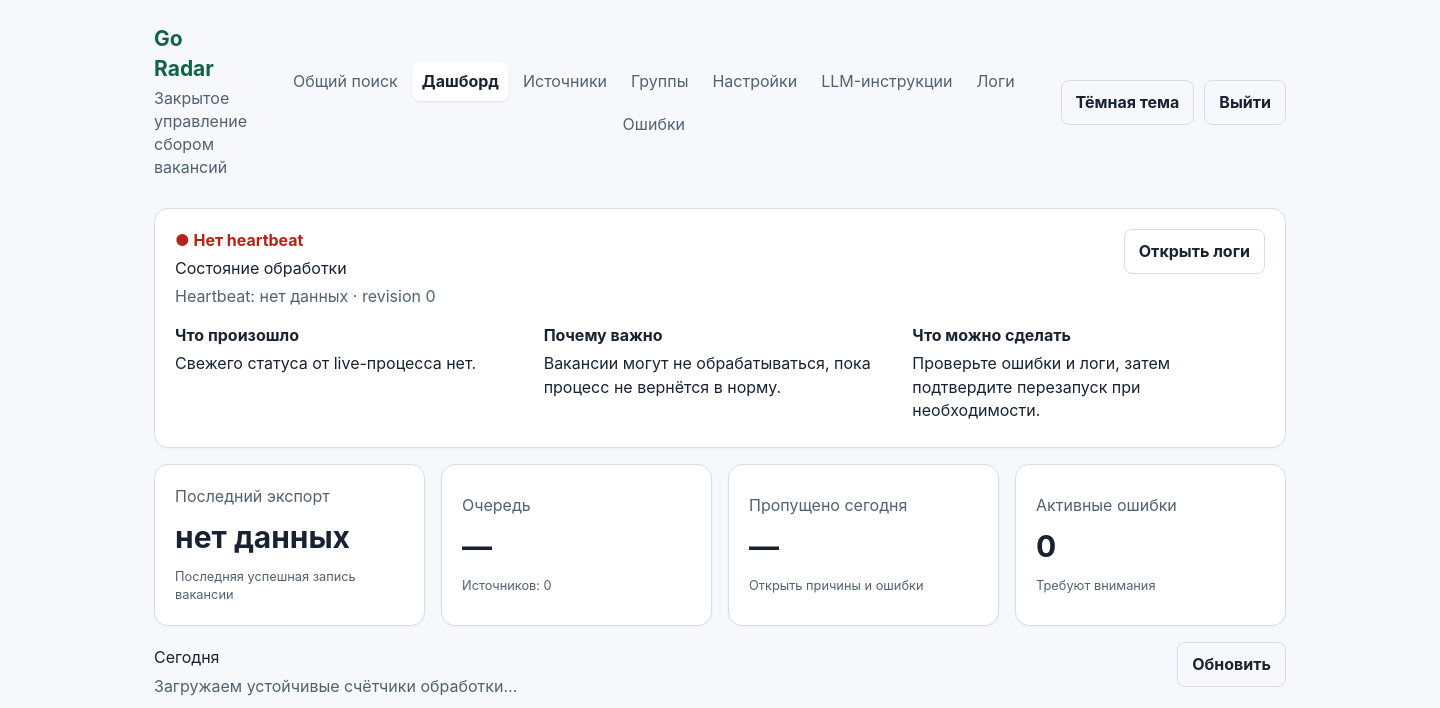
it: opens unified search when Premium and Threads are disabled
What coordinates should you click on to do the following:
click the button "Общий поиск"
I would click on:
 (345, 81)
Its box is x1=283 y1=62 x2=408 y2=101.
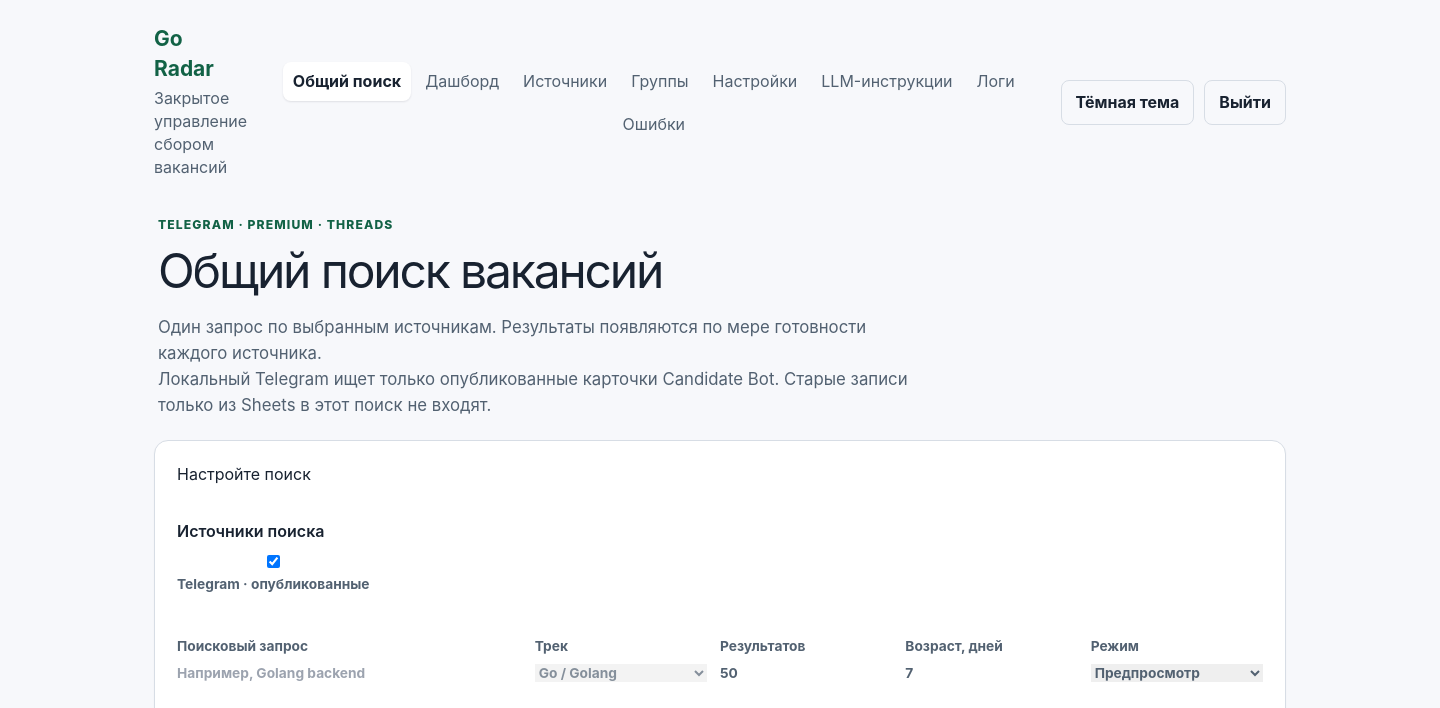
Check: the heading "Общий поиск вакансий" is shown, box x1=158 y1=241 x2=662 y2=300
Check: the checkbox labelled "Telegram · опубликованные" is enabled, box x1=177 y1=555 x2=370 y2=568
